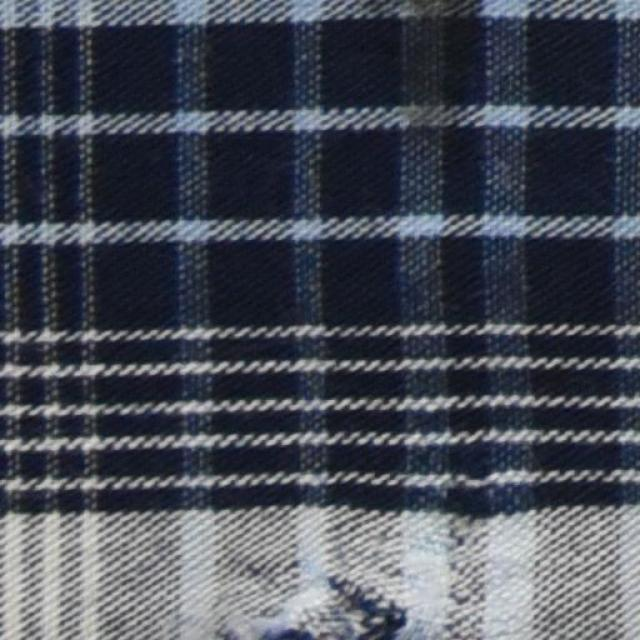Snag: (254, 565, 419, 639)
Stain: (353, 0, 508, 173)
